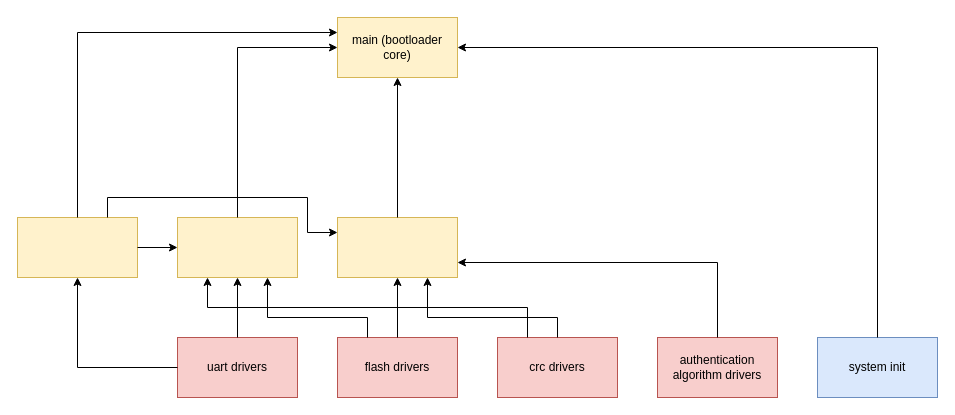
The diagram is 955 pixels wide and 415 high, and some of its shapes have lost their labels. Here are the shapes that lost their labels. From the top down, the box of each, then its label:
(16, 216, 138, 278): logging module
(176, 216, 298, 278): serial dfu apis
(336, 216, 458, 278): firmware validation apis
